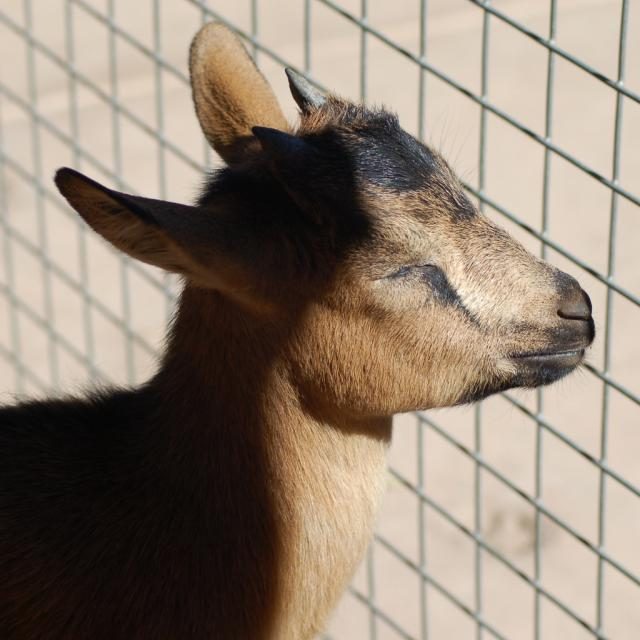Goat: (0, 24, 594, 636)
